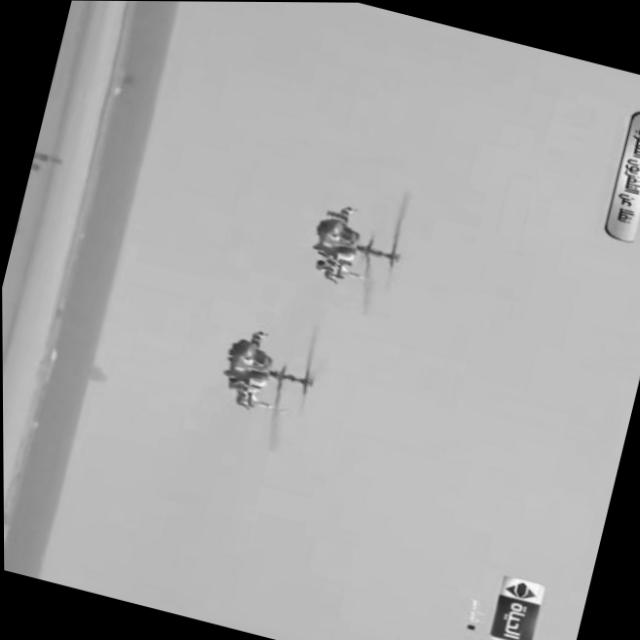helikopter: (179, 301, 319, 439), (289, 179, 420, 297)
